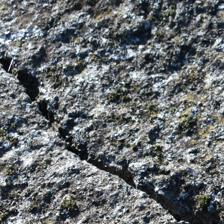Crack: (8, 34, 179, 184)
